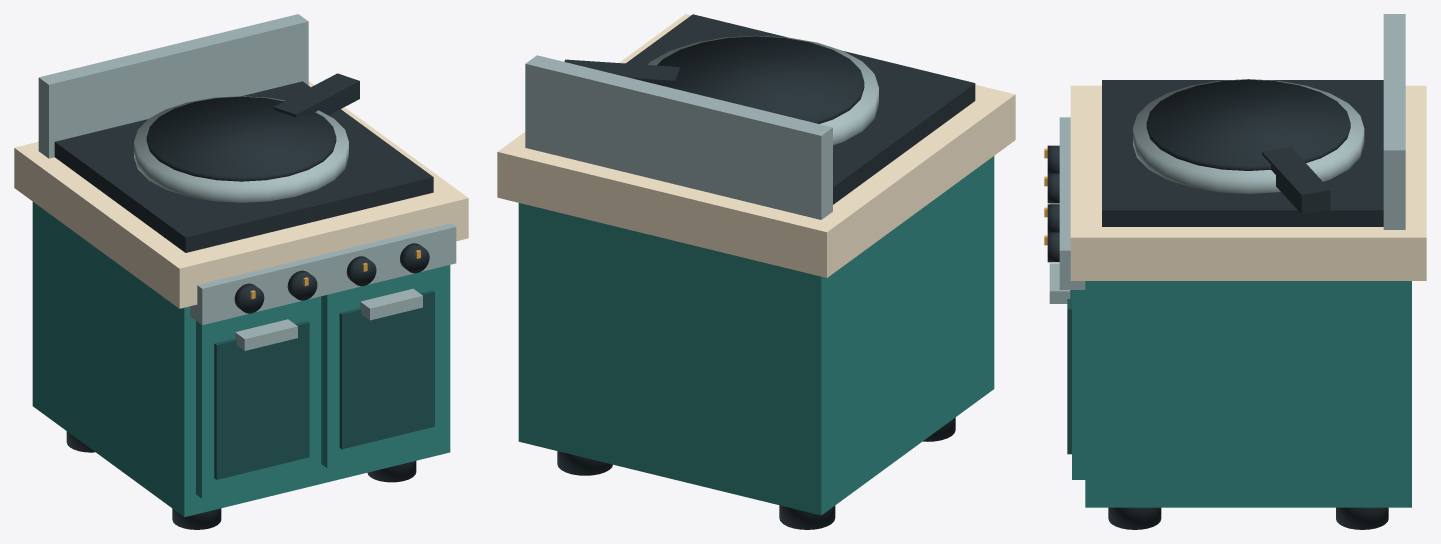
3 views of the same model, side by side, from view 1: azimuth 30°, elevation 25°; view 2: azimuth 150°, elevation 25°; view 3: azimuth 270°, elevation 25° (orthographic). The views are drawn at different scales.
Parts seen in each view (by area): view 1: Powder coated carcase.005, Work surface.005, Cast iron cooktop, Splash back, Pan interior, Recessed face.011, Recessed face.010, Inset cabinet door.010, Instrument fascia, Inset cabinet door.011, Pan, Pan grip (+8 smaller); view 2: Powder coated carcase.005, Work surface.005, Splash back, Pan interior, Cast iron cooktop, Pan, Pan grip, Recessed leveling foot.021, Recessed leveling foot.023; view 3: Powder coated carcase.005, Work surface.005, Cast iron cooktop, Pan interior, Pan, Splash back, Inset cabinet door.011, Pan grip, Instrument fascia, Recessed leveling foot.022, Recessed leveling foot.023, Recessed face.011 (+1 smaller).
Boxes of the visible parts, x1=… form: Powder coated carcase.005: x1=32, y1=202, x2=450, y2=517; Work surface.005: x1=14, y1=81, x2=468, y2=308; Cast iron cooktop: x1=54, y1=81, x2=433, y2=252; Splash back: x1=38, y1=14, x2=308, y2=158; Pan interior: x1=146, y1=96, x2=336, y2=181; Recessed face.011: x1=339, y1=290, x2=434, y2=449; Recessed face.010: x1=214, y1=321, x2=309, y2=479; Inset cabinet door.010: x1=196, y1=296, x2=319, y2=498; Instrument fascia: x1=190, y1=223, x2=456, y2=325; Inset cabinet door.011: x1=321, y1=266, x2=444, y2=468; Pan: x1=134, y1=96, x2=348, y2=202; Pan grip: x1=273, y1=73, x2=359, y2=117; Powder coated carcase.005: x1=518, y1=156, x2=994, y2=515; Work surface.005: x1=497, y1=14, x2=1015, y2=277; Splash back: x1=525, y1=55, x2=832, y2=219; Pan interior: x1=649, y1=36, x2=864, y2=123; Cast iron cooktop: x1=626, y1=14, x2=975, y2=204; Pan: x1=647, y1=35, x2=878, y2=145; Pan grip: x1=564, y1=59, x2=680, y2=83; Recessed leveling foot.021: x1=779, y1=505, x2=835, y2=529; Recessed leveling foot.023: x1=557, y1=451, x2=612, y2=475; Powder coated carcase.005: x1=1085, y1=281, x2=1411, y2=507; Work surface.005: x1=1070, y1=85, x2=1426, y2=280; Cast iron cooktop: x1=1102, y1=80, x2=1383, y2=226; Pan interior: x1=1146, y1=79, x2=1350, y2=170; Pan: x1=1133, y1=79, x2=1364, y2=193; Splash back: x1=1383, y1=14, x2=1405, y2=229; Inset cabinet door.011: x1=1072, y1=290, x2=1085, y2=479; Pan grip: x1=1262, y1=147, x2=1330, y2=214; Instrument fascia: x1=1059, y1=117, x2=1085, y2=289; Recessed leveling foot.022: x1=1108, y1=507, x2=1161, y2=529; Recessed leveling foot.023: x1=1336, y1=507, x2=1388, y2=529; Recessed face.011: x1=1067, y1=290, x2=1071, y2=454.
Size of the model in its own units: 0.98 by 1.16 by 1.04.
